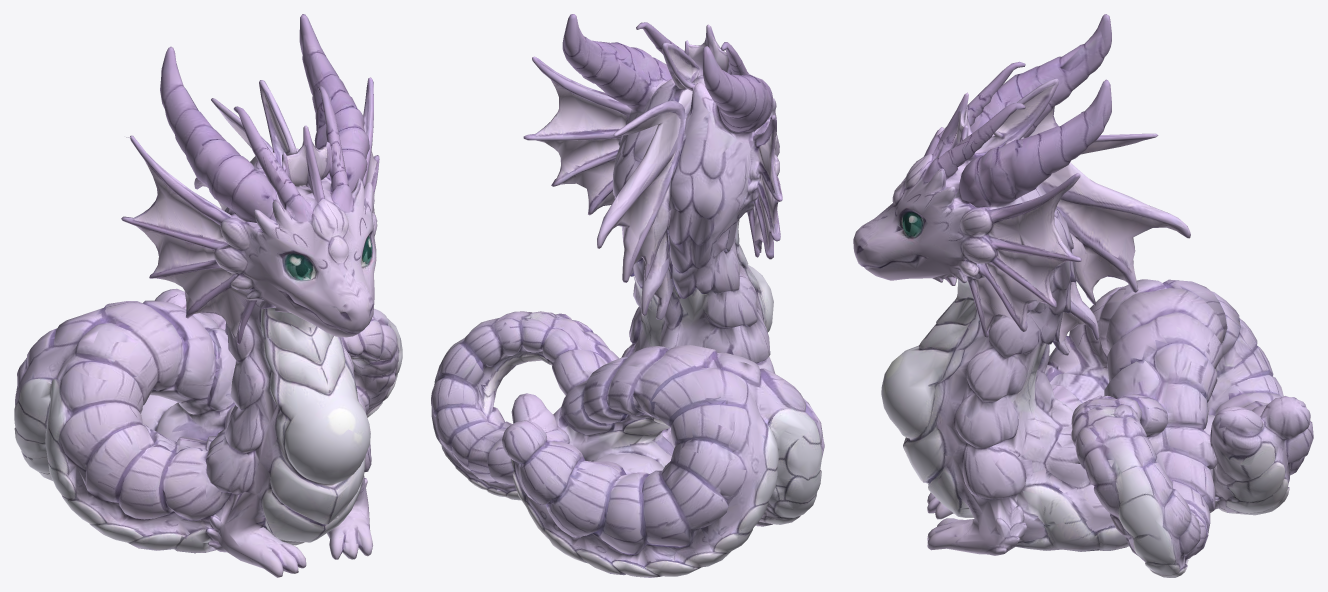
3 renders of one model, left to right at view 1: azimuth 30°, elevation 25°; view 2: azimuth 150°, elevation 25°; view 3: azimuth 270°, elevation 25°, orthographic.
Parts seen in each view (by area): view 1: Mesh_0; view 2: Mesh_0; view 3: Mesh_0.
Boxes of the visible parts, x1,y1,x2,y2 form: Mesh_0: [14, 14, 402, 577]; Mesh_0: [431, 14, 824, 577]; Mesh_0: [853, 14, 1313, 577].
Bounding box in the file's own units: 1.53 × 1.9 × 1.65.
Materials: 1 (1 with a texture image).
